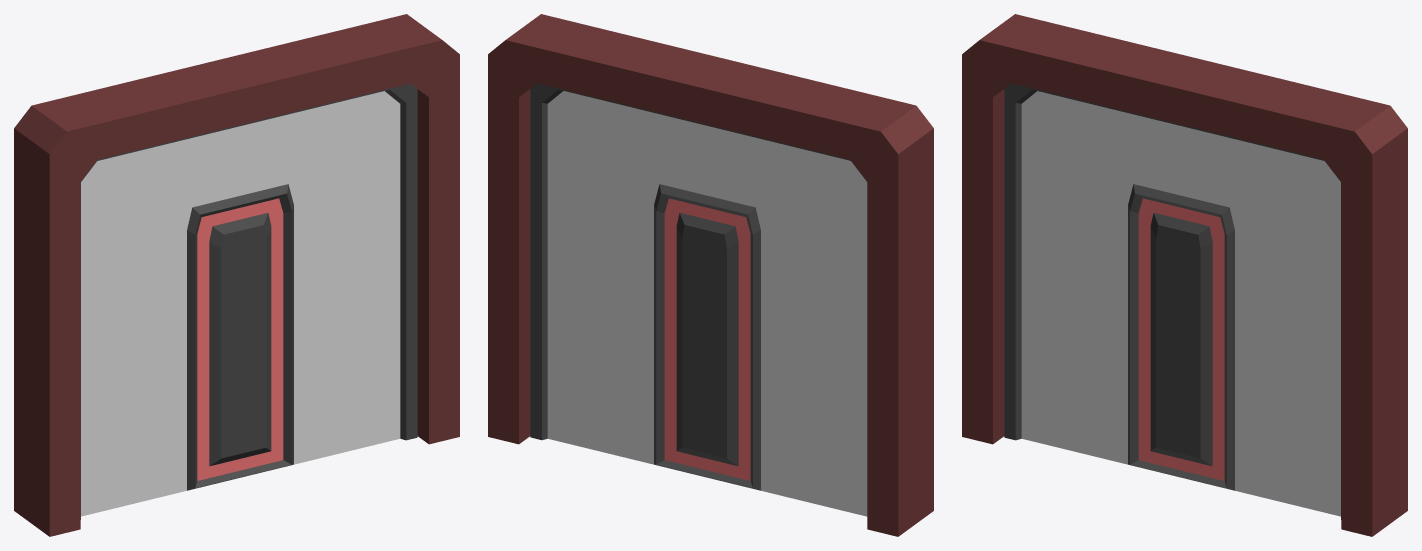
Rendered from Medical_Door.fbx.
3 renders of one model, left to right at view 1: azimuth 30°, elevation 25°; view 2: azimuth 150°, elevation 25°; view 3: azimuth 330°, elevation 25°, orthographic.
Parts seen in each view (by area): view 1: Hall_Door, Hall_Door_Frame; view 2: Hall_Door, Hall_Door_Frame; view 3: Hall_Door, Hall_Door_Frame.
Part boxes in pixels (x1,y1,x2,y2): Hall_Door: (80,83,417,519); Hall_Door_Frame: (14,14,459,536); Hall_Door: (530,83,867,516); Hall_Door_Frame: (488,14,933,536); Hall_Door: (1004,83,1341,519); Hall_Door_Frame: (962,14,1407,536).
Bounding box in the file's own units: 931 × 873 × 140.
